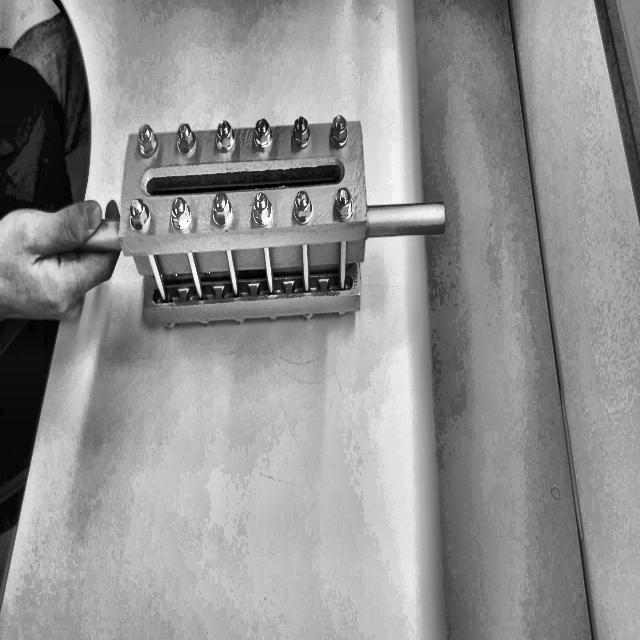ShuiWeiQi_12: (101, 29, 448, 363)
